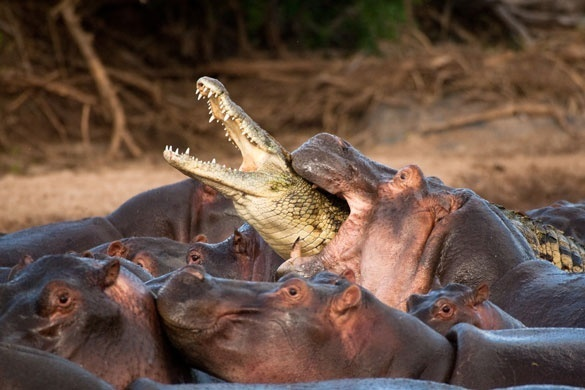hipopotamo: (284, 125, 585, 327), (153, 250, 583, 386), (1, 234, 195, 385), (387, 259, 536, 344)
